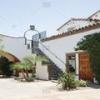stairs: (36, 47, 63, 78)
